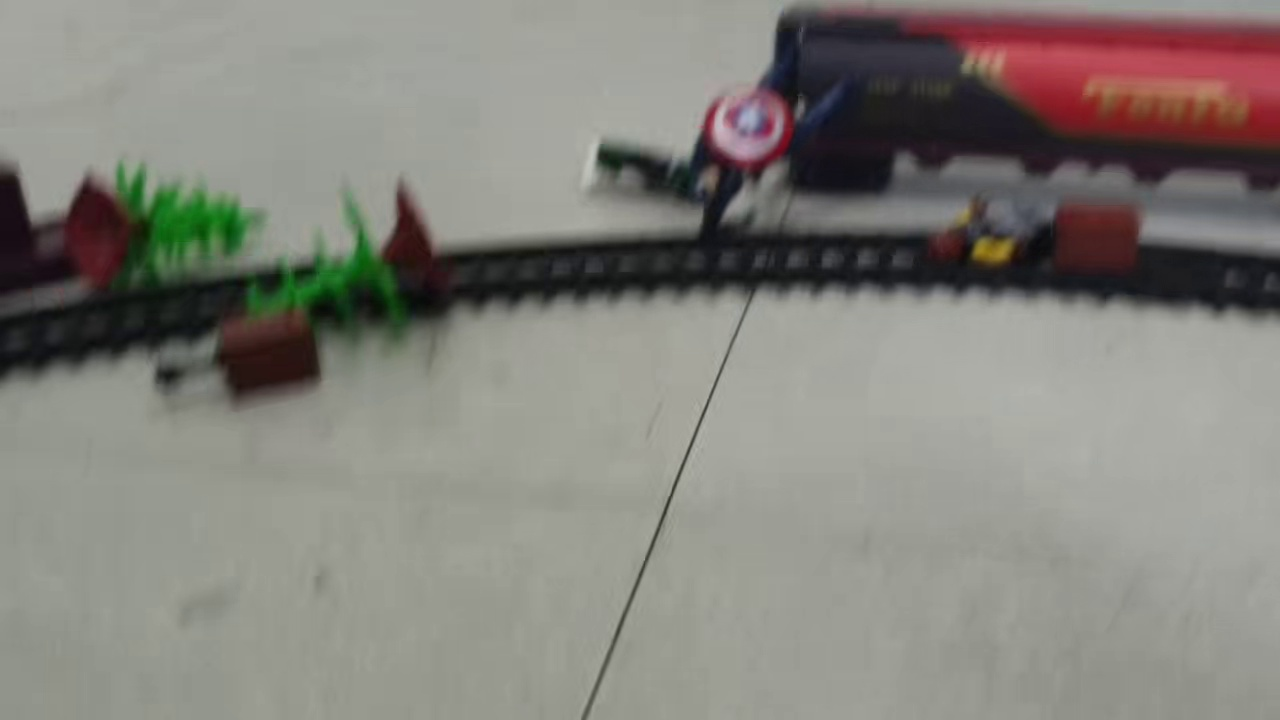box: (147, 317, 327, 407), (1052, 200, 1141, 274)
people: (700, 64, 855, 239), (579, 137, 713, 206), (933, 195, 1056, 268)
tree: (235, 176, 448, 343), (62, 152, 270, 293)
